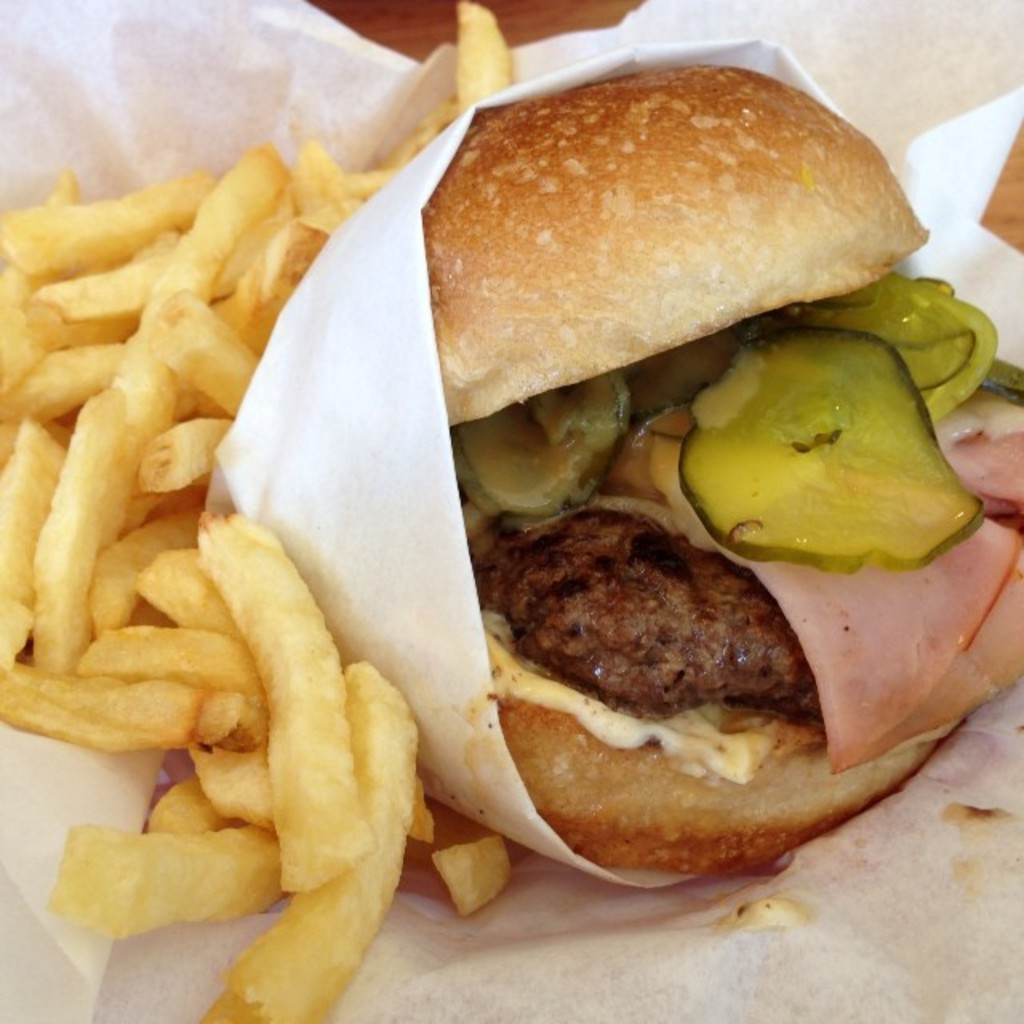French fries: (0, 0, 523, 1022)
